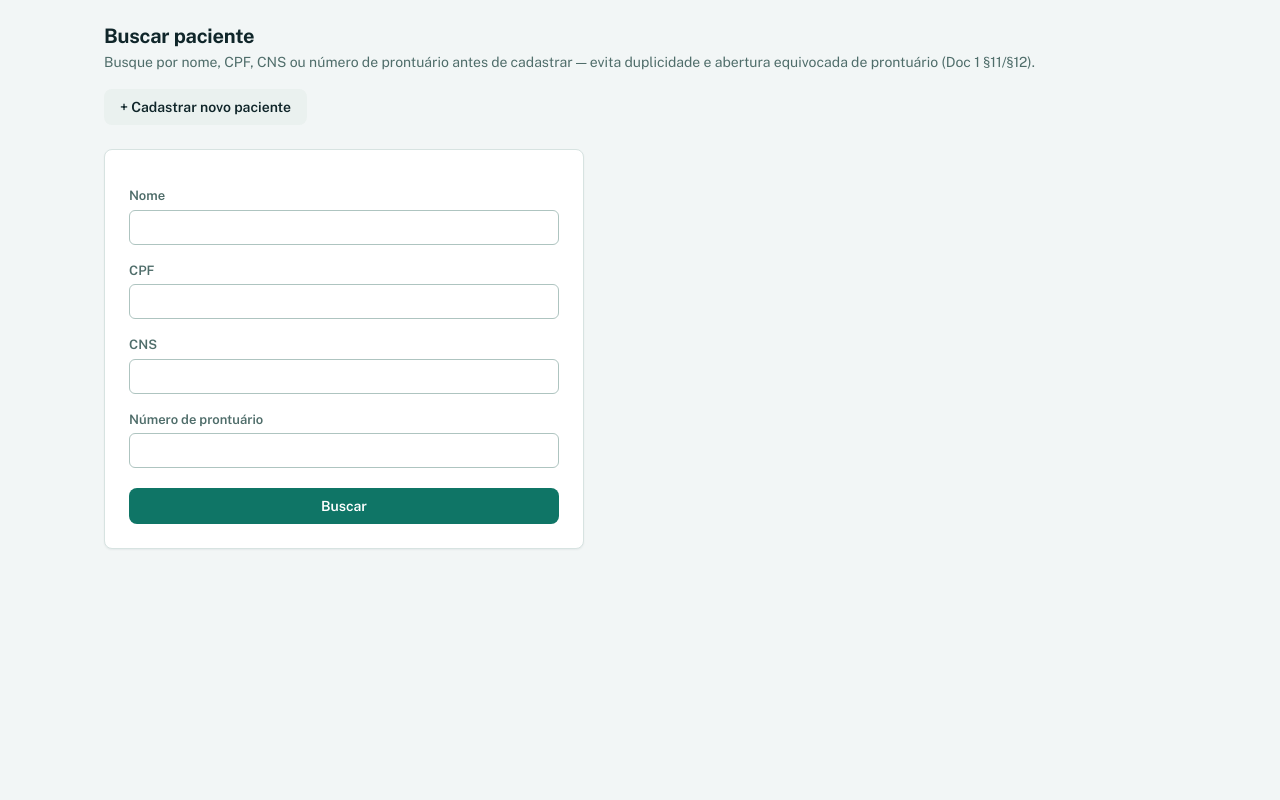
Test case: PatientSearchPage › 12. busca por nome retorna resultados
The image size is (1280, 800).
Type "Maria" into the field labelled "Nome".
click(344, 227); type("Maria")  # box [129, 210, 559, 244]
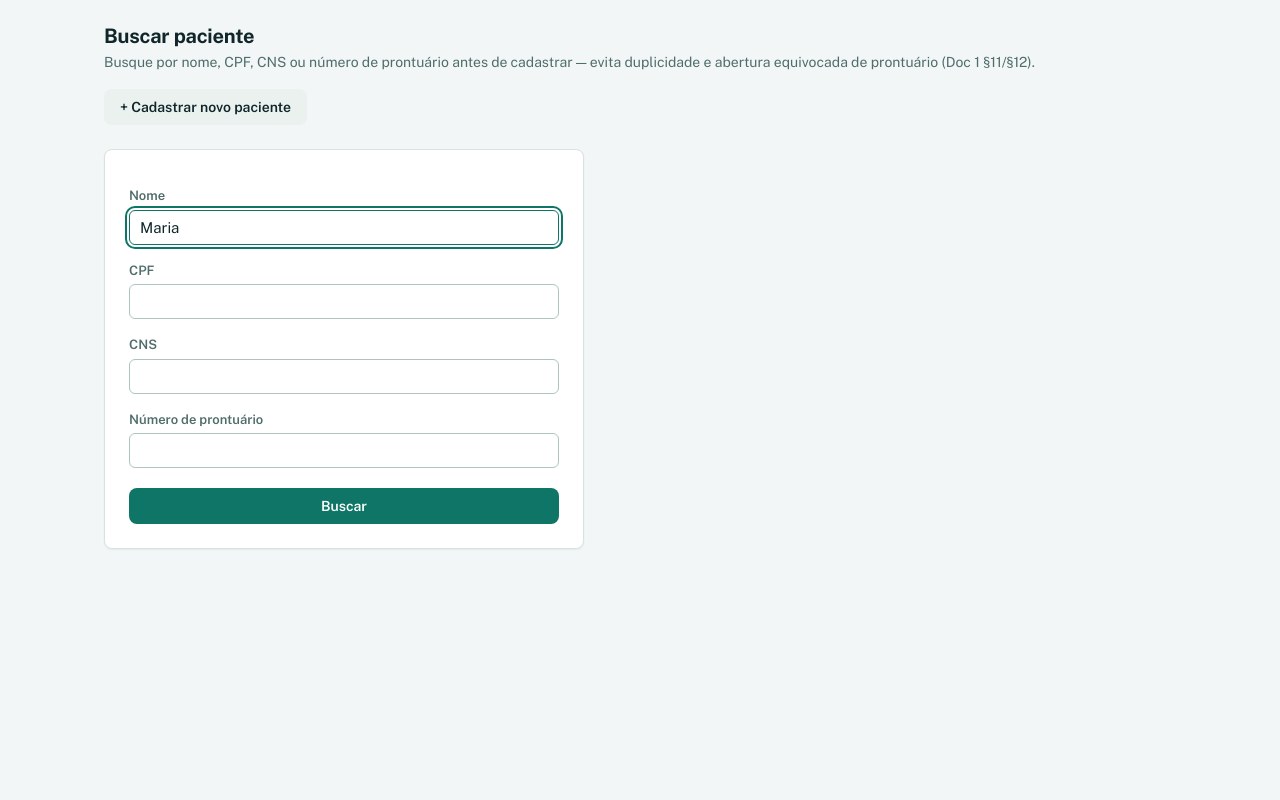
Click the button "Buscar".
click(344, 506)  # box [129, 488, 559, 524]
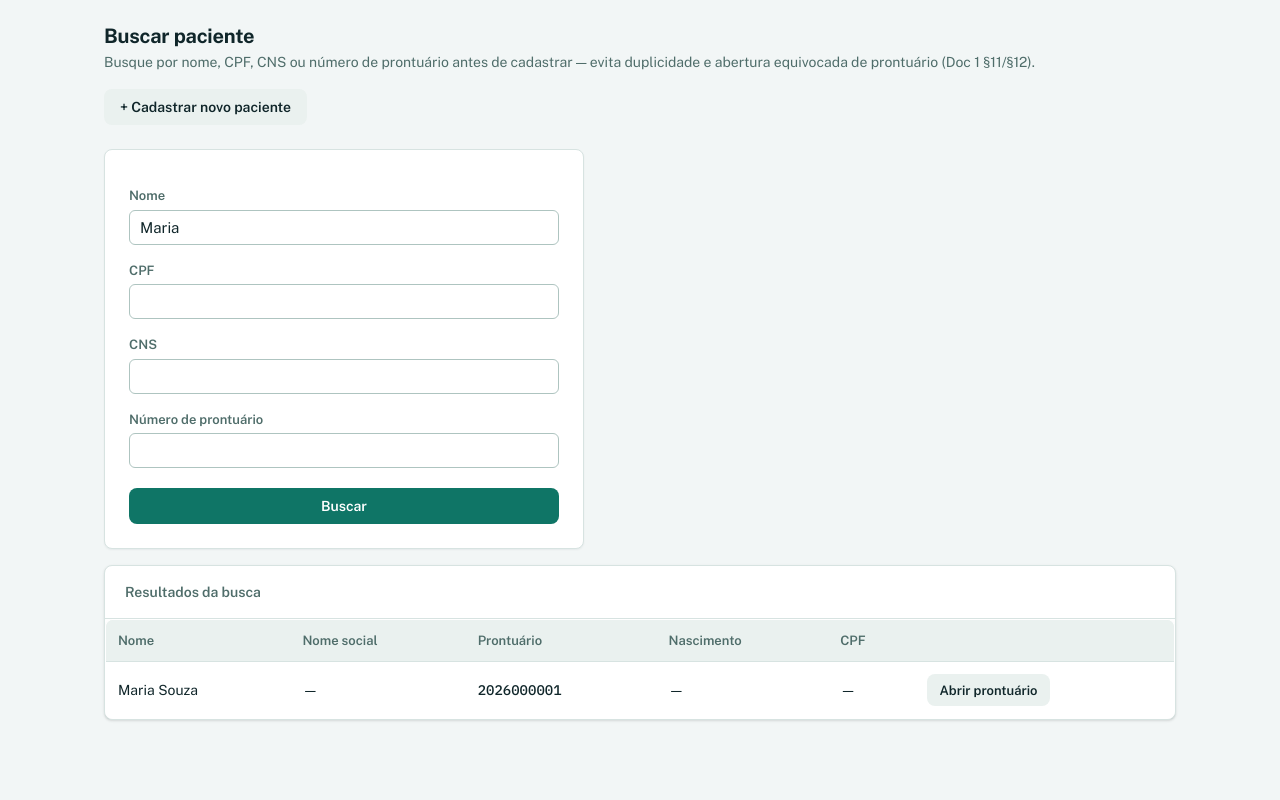
Now the text "Maria Souza" is shown, box [106, 662, 290, 719]
